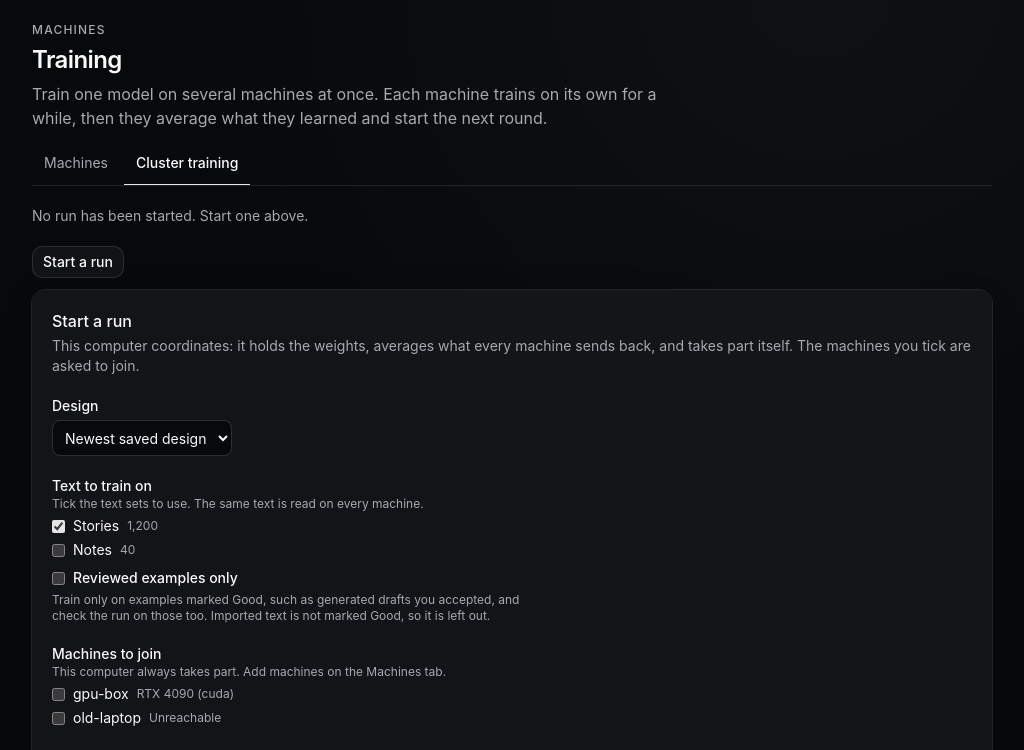
Test case: Training tab: the start form › cannot start with no text ticked
What coordinates should you click on to do the following:
click the checkbox labelled "Stories 1,200"
I would click on:
 (58, 526)
Its box is [52,520,65,532].
(page scrolled)
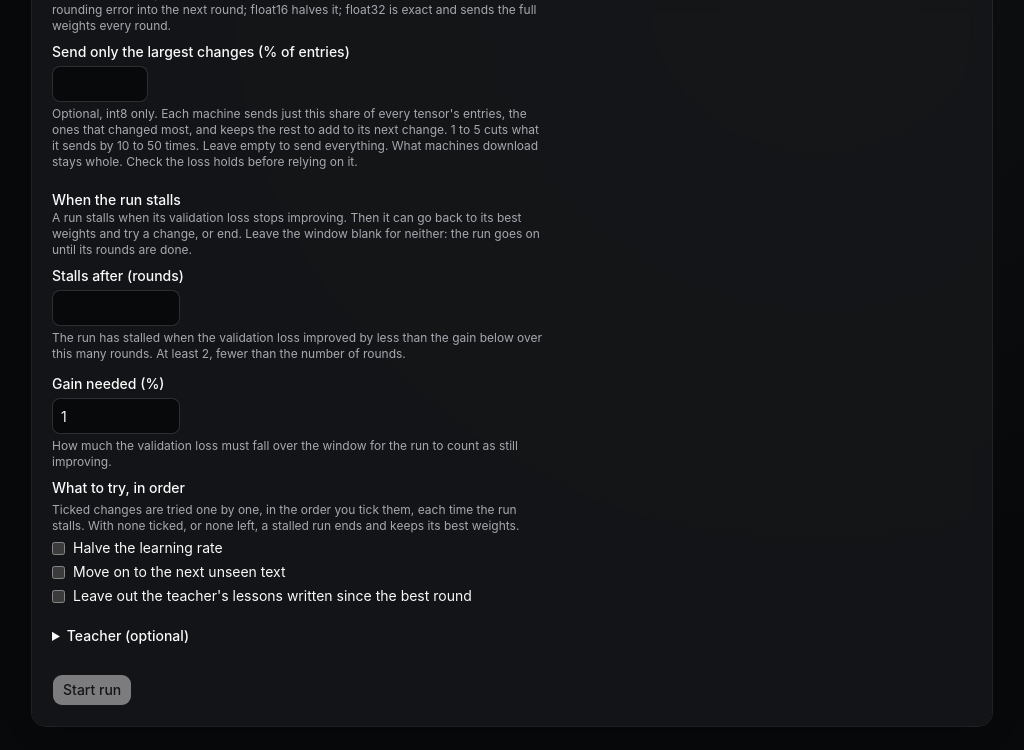
Check: the button "Start run" is disabled, box [52,674,132,706]
